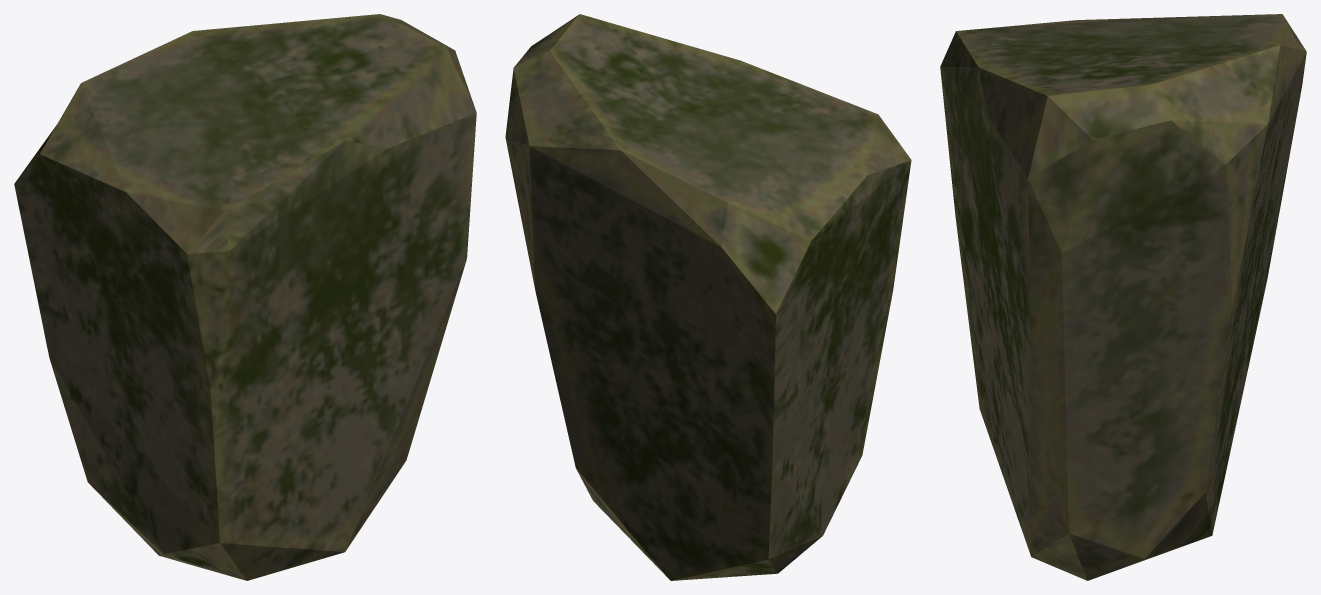
Rendered from mossy rocks7.fbx.
3 views of the same model, side by side, from view 1: azimuth 30°, elevation 25°; view 2: azimuth 150°, elevation 25°; view 3: azimuth 270°, elevation 25° (orthographic). The views are drawn at different scales.
Visible parts, largest first — view 1: Mossy_Rock9_M_Mossy_Rock_0; view 2: Mossy_Rock9_M_Mossy_Rock_0; view 3: Mossy_Rock9_M_Mossy_Rock_0.
Boxes of the visible parts, left/top/right/bottom form: Mossy_Rock9_M_Mossy_Rock_0: left=14, top=14, right=476, bottom=580; Mossy_Rock9_M_Mossy_Rock_0: left=505, top=14, right=911, bottom=580; Mossy_Rock9_M_Mossy_Rock_0: left=940, top=14, right=1306, bottom=580.
Bounding box in the file's own units: 68.76 × 90.35 × 56.45.
Materials: 1 (1 with a texture image).
